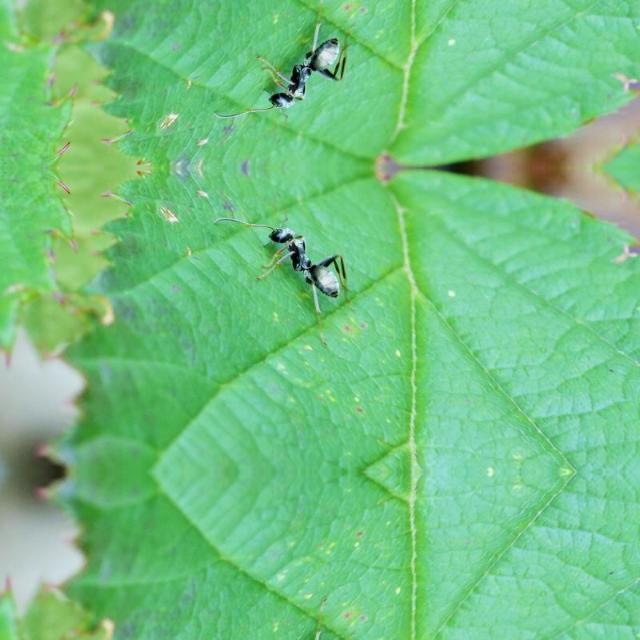Formica: (235, 201, 373, 317), (235, 19, 373, 135)
